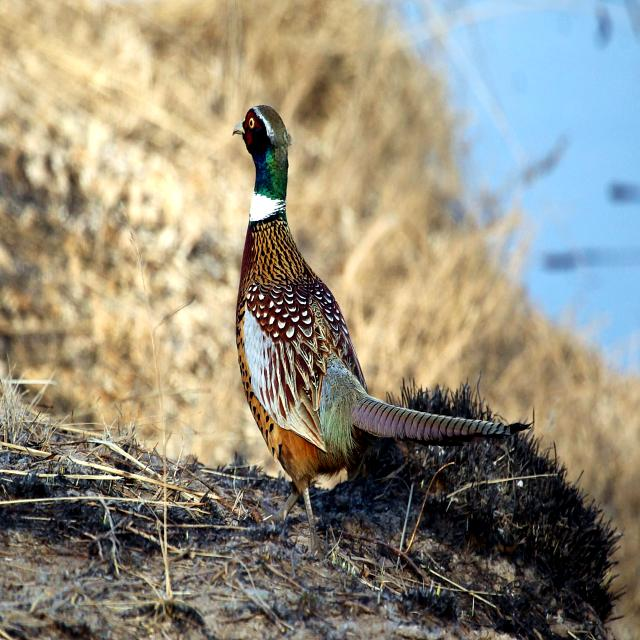Phasianus Colchicus: (350, 395, 534, 442)
